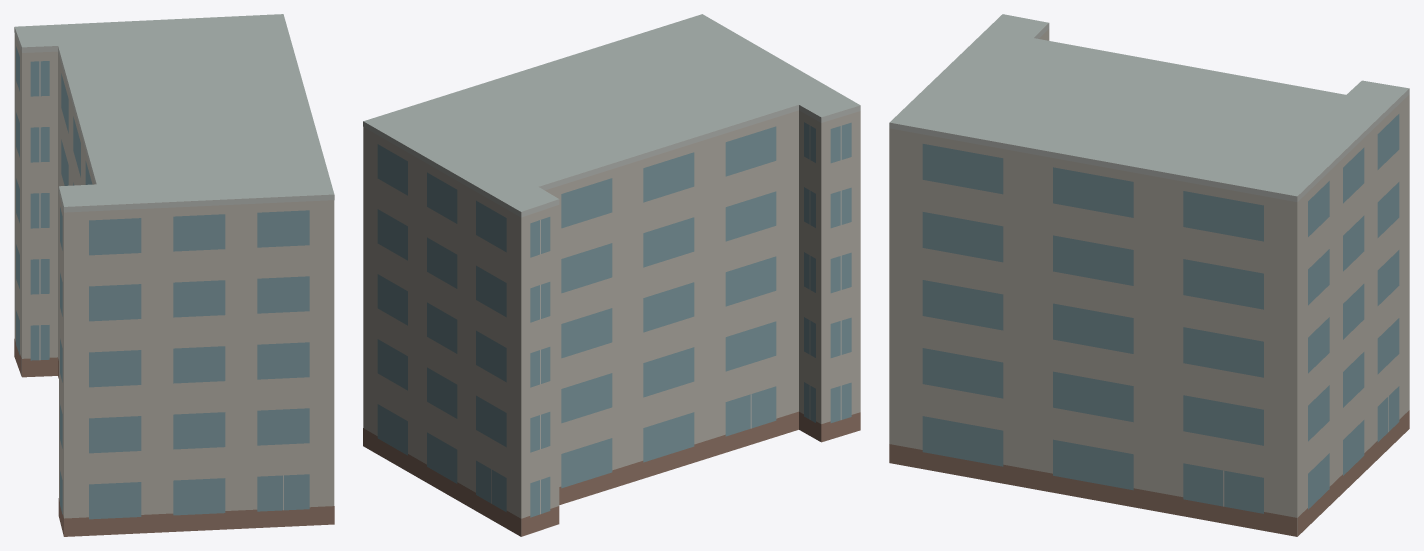
The model's file is survey-upis-32565168.glb.
3 views of the same model, side by side, from view 1: azimuth 30°, elevation 25°; view 2: azimuth 150°, elevation 25°; view 3: azimuth 270°, elevation 25° (orthographic). The views are drawn at different scales.
Visible parts, largest first — view 1: survey-upis-32565168.tmp; view 2: survey-upis-32565168.tmp; view 3: survey-upis-32565168.tmp.
Part boxes in pixels (x1,y1,x2,y2): survey-upis-32565168.tmp: (14, 14, 334, 536); survey-upis-32565168.tmp: (363, 14, 860, 536); survey-upis-32565168.tmp: (889, 14, 1409, 536).
Bounding box in the file's own units: 16.39 × 14.25 × 19.74.
